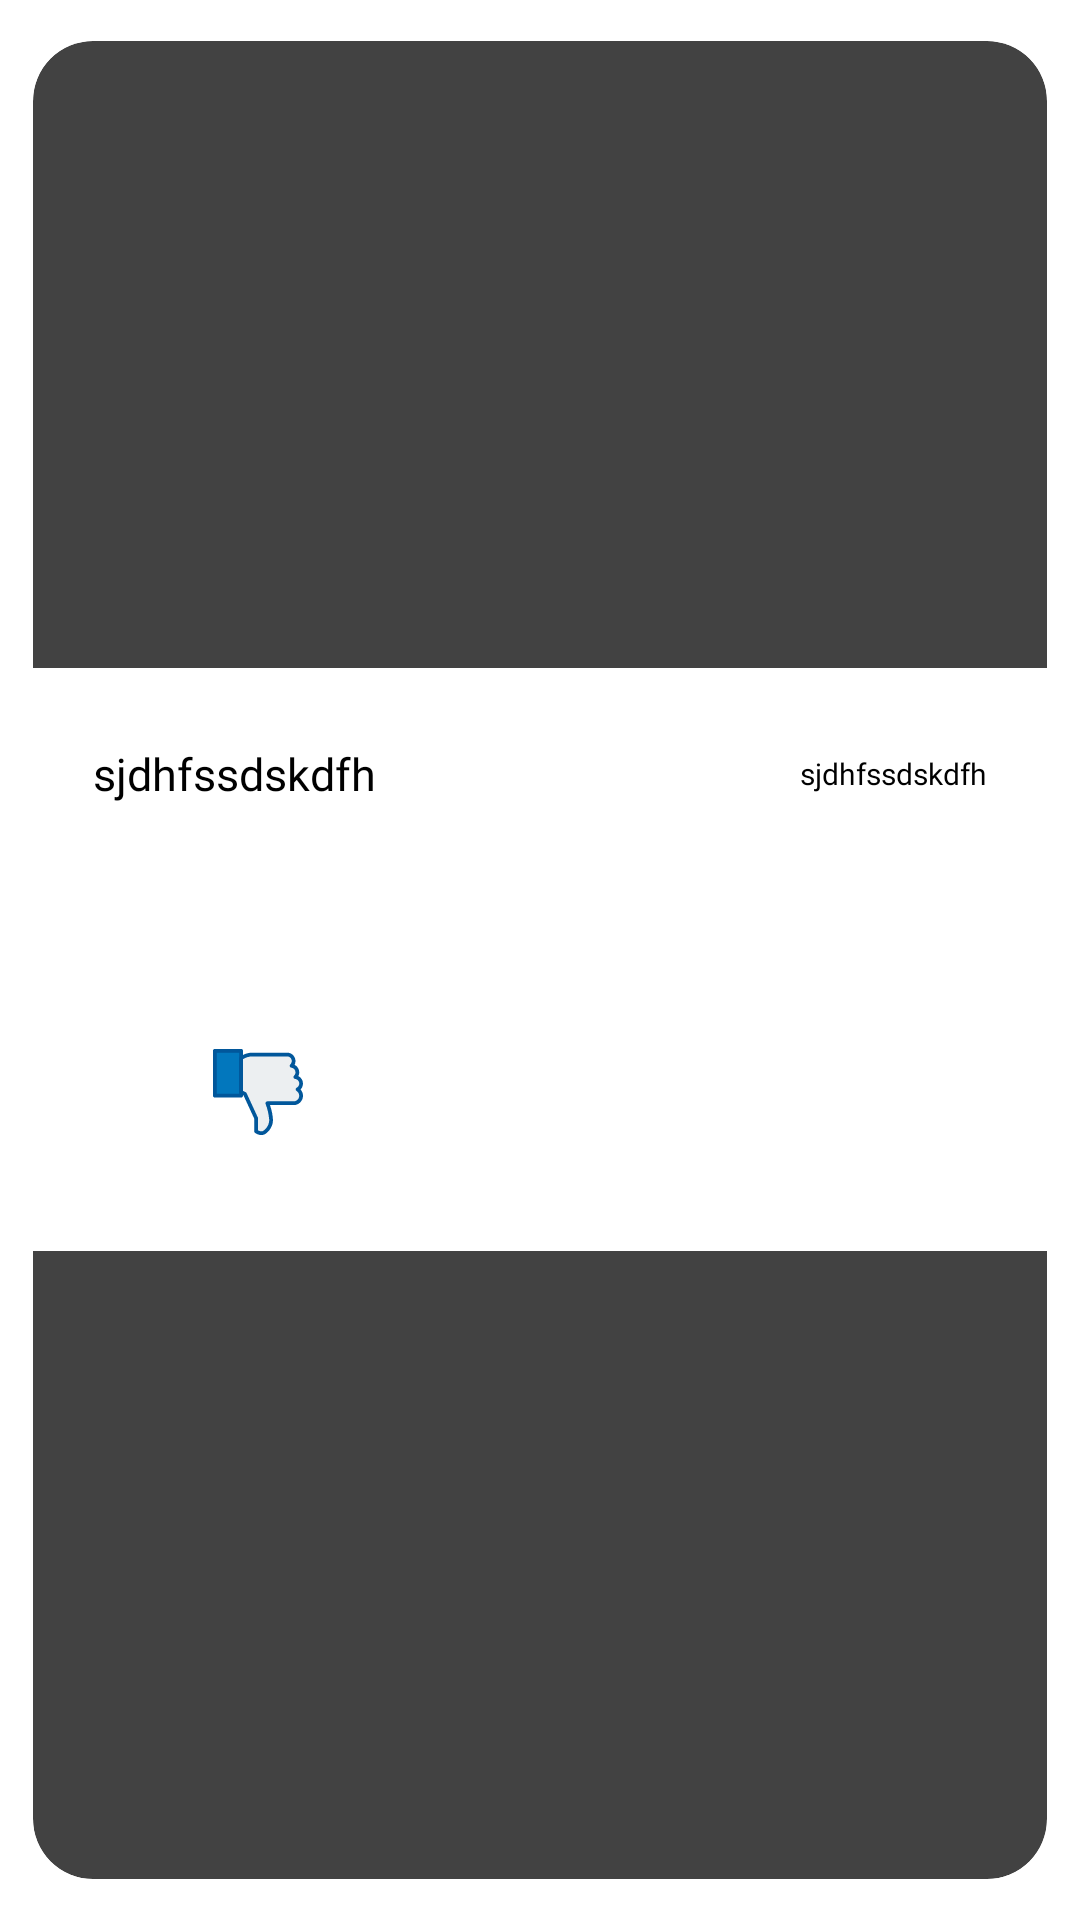

Screen size 1080×1920. Icon name, then its center in pixels as (x,y):
thumb down: (258,1092)
